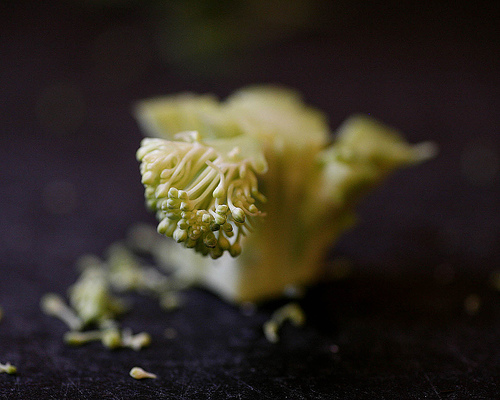broccoli: (132, 85, 442, 304)
